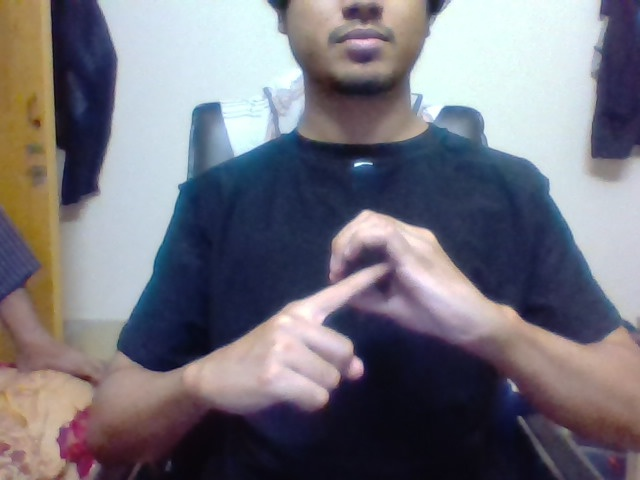Q: (338, 229, 408, 311)
